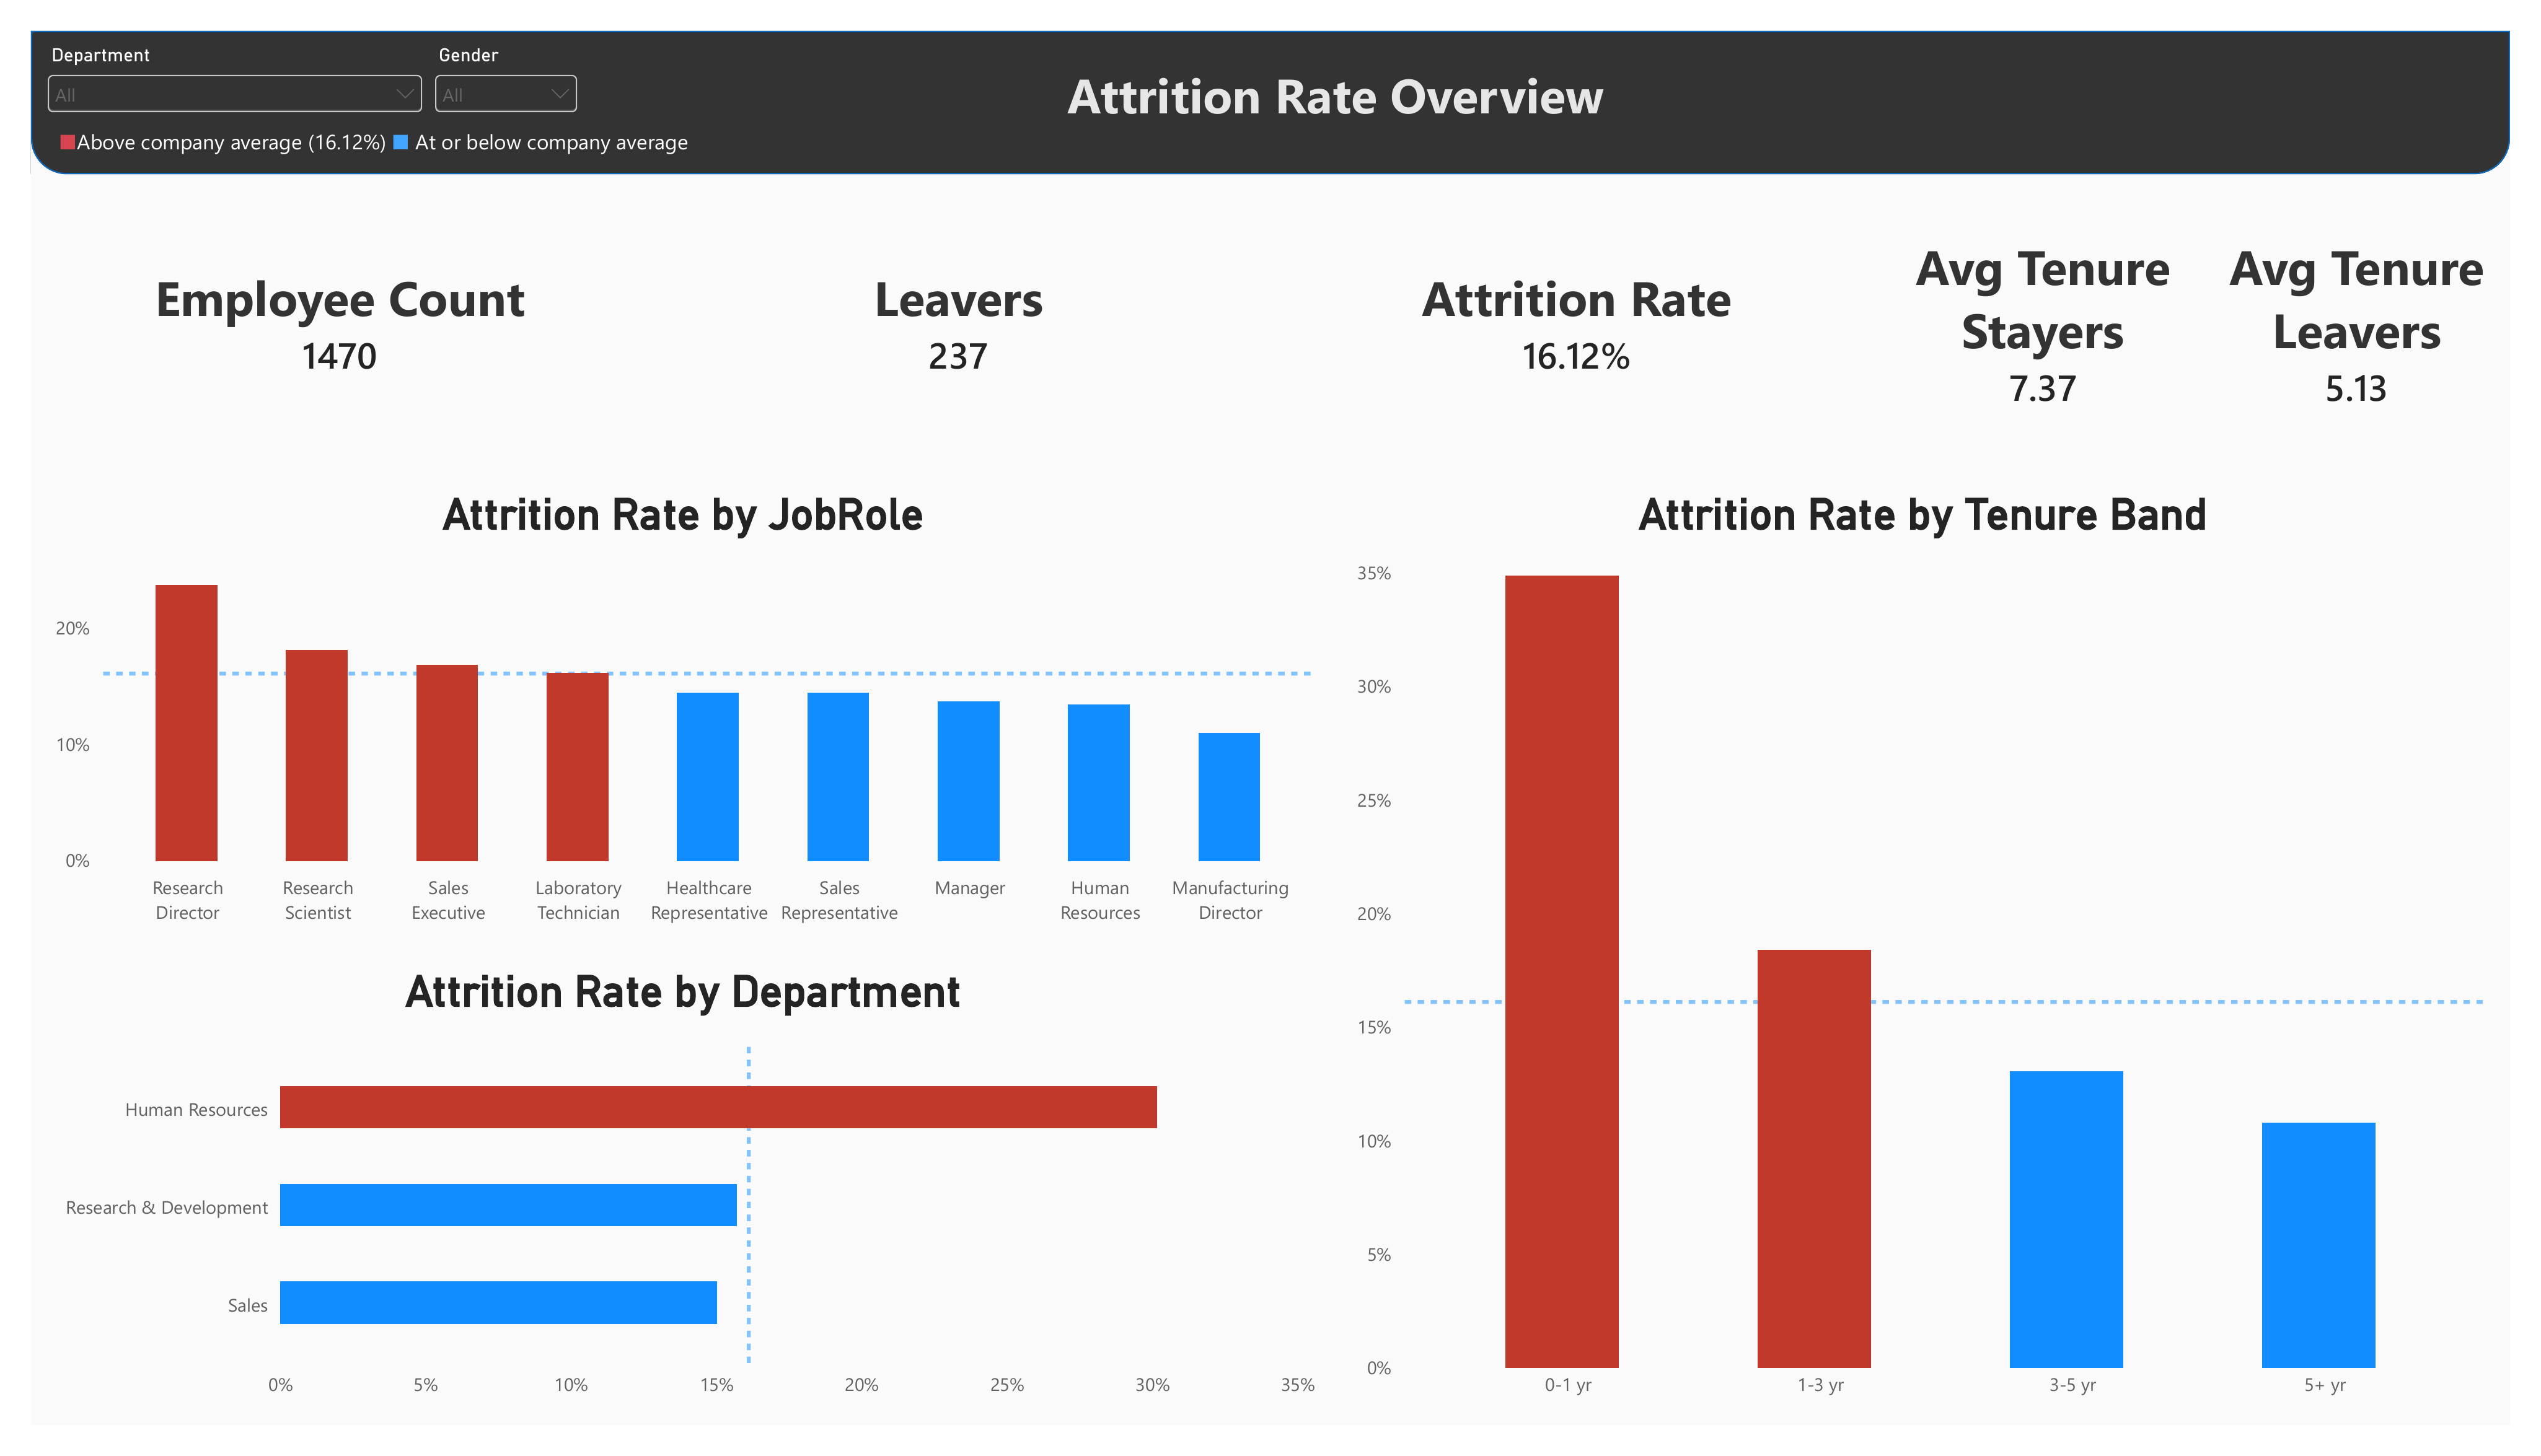

The page's visual inventory and layout, read from the dashboard file:
{"tool":"powerbi","page":{"name":"Overview","canvas":[1920,1080],"ordinal":0},"visuals":[{"type":"cardVisual","fields":{"Data":["_Measures.Employee Count"]},"box":[0,110.9,479,229.7],"z":0},{"type":"cardVisual","fields":{"Data":["_Measures.Leavers"]},"box":[479,110.9,479,229.7],"z":1000},{"type":"cardVisual","fields":{"Data":["_Measures.Attrition Rate"]},"box":[958,110.9,479,229.7],"z":2000},{"type":"cardVisual","fields":{"Data":["_Measures.Avg Tenure Stayers","_Measures.Avg Tenure Leavers"]},"box":[1441,110.9,479,229.7],"z":3000},{"type":"barChart","title":"Attrition Rate by Department","fields":{"Category":["general_data.Department"],"Y":["_Measures.Attrition Rate"]},"box":[0,710.7,1011,369.1],"z":4000},{"type":"columnChart","title":"Attrition Rate by Tenure Band","fields":{"Category":["general_data.Tenure Band"],"Y":["_Measures.Attrition Rate"]},"box":[1011.1,341.1,909,739.1],"z":5000},{"type":"shape","title":"fvdf","box":[0,0,1920,110.9],"z":6000},{"type":"textbox","box":[775.5,23.6,470.2,102.1],"z":7000},{"type":"slicer","fields":{"Values":["general_data.Department"]},"box":[7.9,10.8,300.4,63.8],"z":8000},{"type":"slicer","fields":{"Values":["general_data.Gender"]},"box":[308.2,10.8,119.8,63.8],"z":9000},{"type":"columnChart","title":"Attrition Rate by JobRole","fields":{"Category":["general_data.JobRole"],"Y":["_Measures.Attrition Rate"]},"box":[0,340.6,1011,370.1],"z":10000},{"type":"textbox","box":[21.6,74.6,504.5,39.3],"z":11000}]}

Visuals, with their boxes on the page's 1920x1080 design canvas (x1, y1, x2, y2). These are canvas units, not pixel positions in the 2541x1456 screenshot, which may show the page scaled, cropped or inside an application window:
cardVisual - _Measures.Employee Count: 0,111,479,341
cardVisual - _Measures.Leavers: 479,111,958,341
cardVisual - _Measures.Attrition Rate: 958,111,1437,341
cardVisual - _Measures.Avg Tenure Stayers x _Measures.Avg Tenure Leavers: 1441,111,1920,341
"Attrition Rate by Department" barChart: 0,711,1011,1080
"Attrition Rate by Tenure Band" columnChart: 1011,341,1920,1080
"fvdf" shape: 0,0,1920,111
textbox: 776,24,1246,126
slicer - general_data.Department: 8,11,308,75
slicer - general_data.Gender: 308,11,428,75
"Attrition Rate by JobRole" columnChart: 0,341,1011,711
textbox: 22,75,526,114
